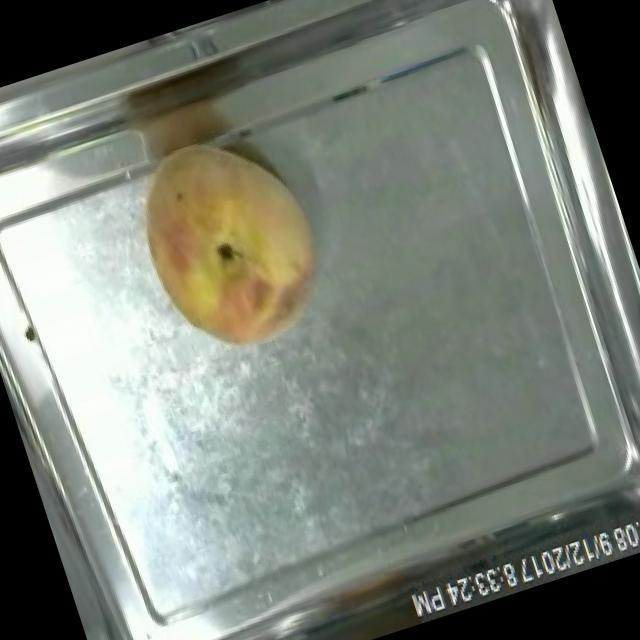Fruit: (106, 110, 354, 380)
